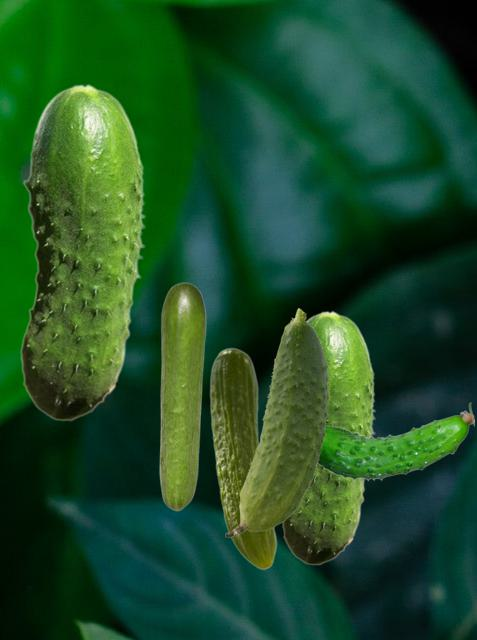cucumber: (20, 83, 145, 420), (281, 310, 375, 564), (225, 308, 329, 536), (209, 347, 276, 569), (318, 402, 473, 480), (159, 282, 205, 510)
